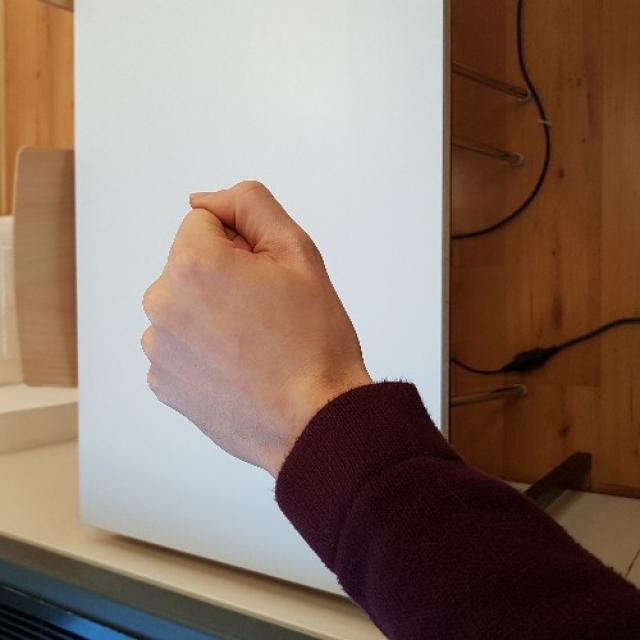rock: (146, 175, 368, 457)
